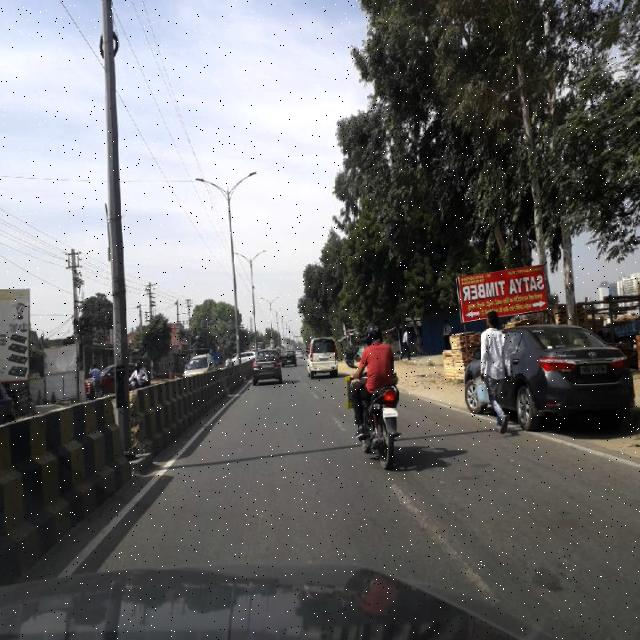D44: (394, 487, 490, 595)
